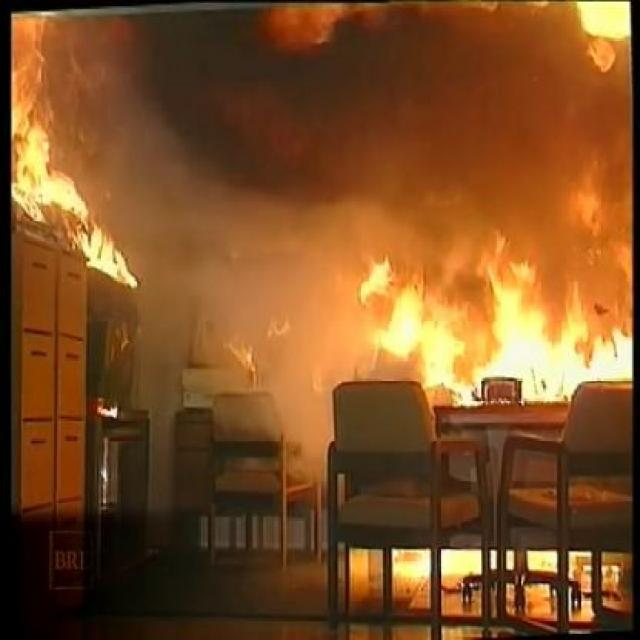fire: (365, 232, 613, 380), (16, 18, 96, 218)
smoke: (150, 130, 324, 327), (256, 342, 342, 424)
